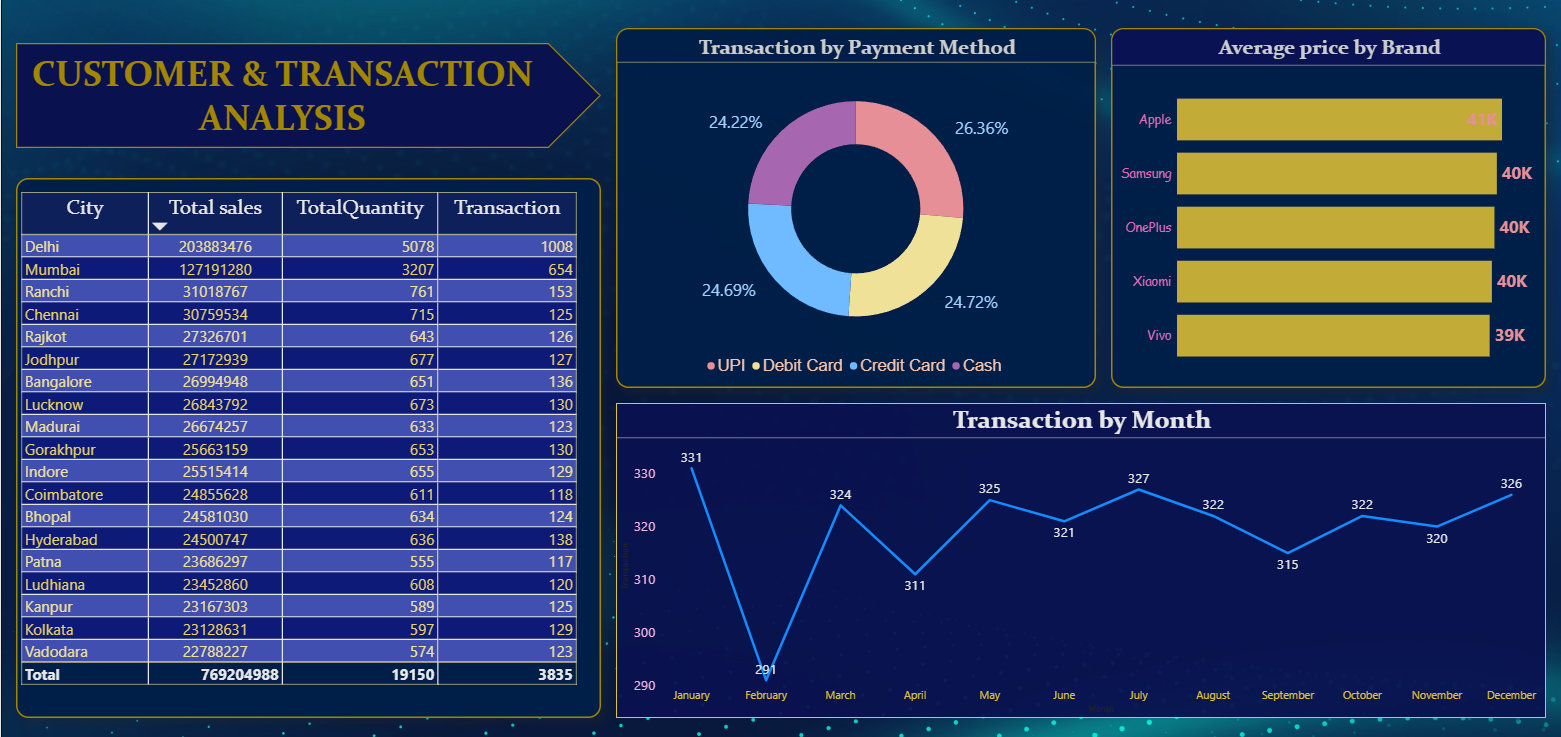

The page's visual inventory and layout, read from the dashboard file:
{"tool":"powerbi","page":{"name":"customer & transaction insights","canvas":[2500,1300],"ordinal":2},"visuals":[{"type":"shape","box":[24,72,936,168],"z":0},{"type":"donutChart","fields":{"Category":["Mobile_sales_data dasboard.Payment Method"],"Y":["Mobile_sales_data dasboard.Transaction"]},"box":[984,48,768,576],"z":1000},{"type":"areaChart","fields":{"Category":["Mobile_sales_data dasboard.DATE.Variation.Date Hierarchy.Month"],"Y":["Mobile_sales_data dasboard.Transaction"]},"box":[984,648,1488,504],"z":2000},{"type":"barChart","title":"Average  price by Brand","fields":{"Category":["Mobile_sales_data dasboard.Brand"],"Y":["Mobile_sales_data dasboard.Average"]},"box":[1776,48,696,576],"z":3000},{"type":"tableEx","fields":{"Values":["Mobile_sales_data dasboard.City","Mobile_sales_data dasboard.Total sales","Mobile_sales_data dasboard.TotalQuantity","Mobile_sales_data dasboard.Transaction"]},"box":[24,288,936,864],"z":4000}]}

Visuals, with their boxes on the page's 2500x1300 design canvas (x1, y1, x2, y2). These are canvas units, not pixel positions in the 1561x737 screenshot, which may show the page scaled, cropped or inside an application window:
shape: l=24, t=72, r=960, b=240
donutChart - Mobile_sales_data dasboard.Payment Method x Mobile_sales_data dasboard.Transaction: l=984, t=48, r=1752, b=624
areaChart - Mobile_sales_data dasboard.DATE.Variation.Date Hierarchy.Month x Mobile_sales_data dasboard.Transaction: l=984, t=648, r=2472, b=1152
"Average  price by Brand" barChart: l=1776, t=48, r=2472, b=624
tableEx - Mobile_sales_data dasboard.City x Mobile_sales_data dasboard.Total sales: l=24, t=288, r=960, b=1152
